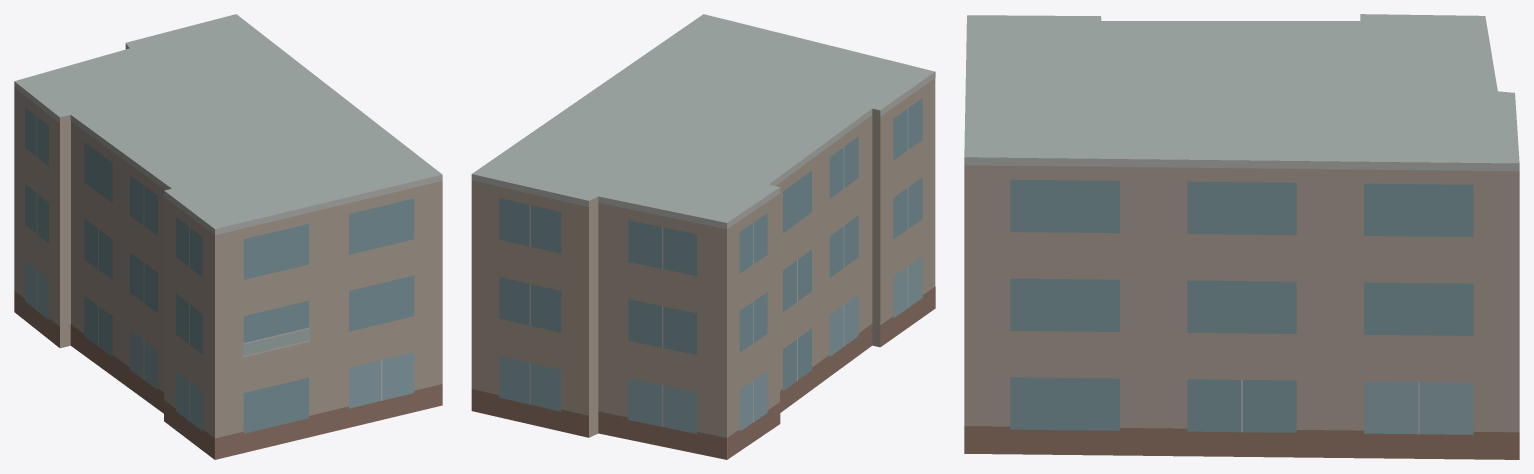
Rendered from survey-upis-32990176.glb.
3 renders of one model, left to right at view 1: azimuth 30°, elevation 25°; view 2: azimuth 150°, elevation 25°; view 3: azimuth 270°, elevation 25°, orthographic. The views are drawn at different scales.
Parts seen in each view (by area): view 1: survey-upis-32990176.tmp; view 2: survey-upis-32990176.tmp; view 3: survey-upis-32990176.tmp.
Boxes of the visible parts, x1=… form: survey-upis-32990176.tmp: x1=14, y1=14, x2=442, y2=459; survey-upis-32990176.tmp: x1=471, y1=14, x2=935, y2=459; survey-upis-32990176.tmp: x1=964, y1=14, x2=1519, y2=459.
Size of the model in its own units: 9.9 by 9.15 by 15.55.
